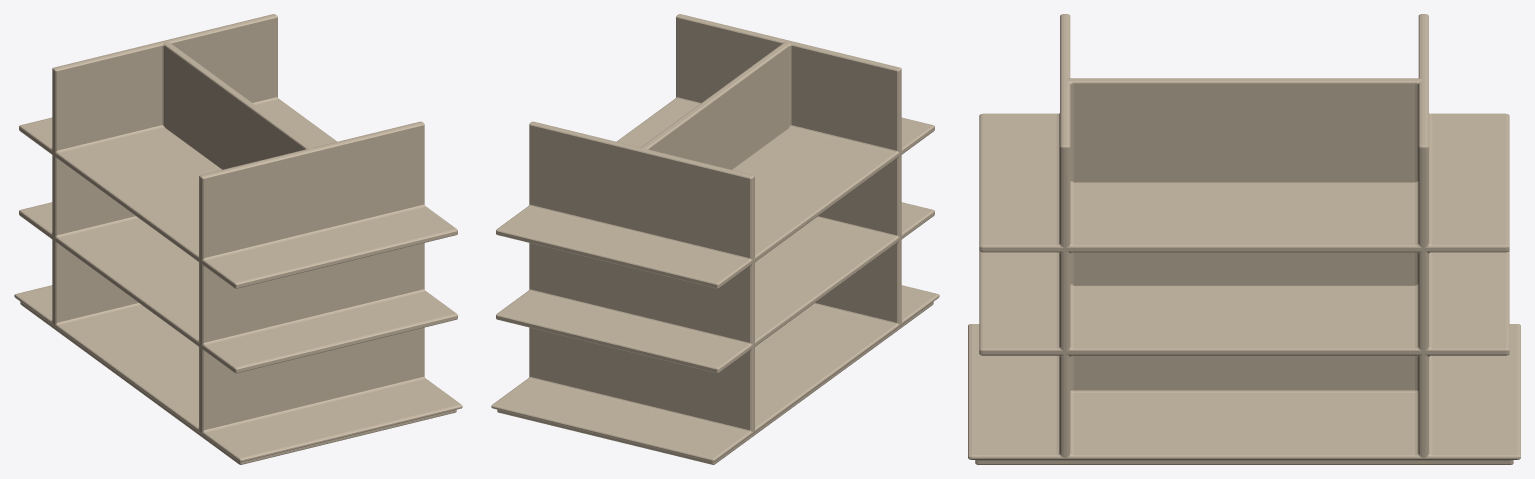
The model's file is Shelf03.fbx.
3 views of the same model, side by side, from view 1: azimuth 30°, elevation 25°; view 2: azimuth 150°, elevation 25°; view 3: azimuth 270°, elevation 25° (orthographic). The views are drawn at different scales.
Visible parts, largest first — view 1: Regal3_vierseitig; view 2: Regal3_vierseitig; view 3: Regal3_vierseitig.
Part boxes in pixels (bbox=[...]): Regal3_vierseitig: bbox=[14, 14, 462, 464]; Regal3_vierseitig: bbox=[491, 14, 939, 464]; Regal3_vierseitig: bbox=[968, 14, 1520, 464].
Bounding box in the file's own units: 534 × 601 × 938.
